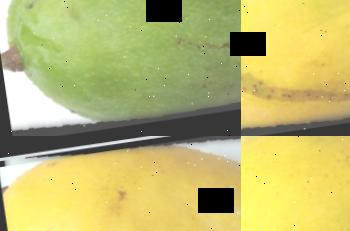PartiallyRipe: (241, 136, 350, 231)
Ripe: (0, 136, 241, 231), (241, 0, 350, 136)
Unripe: (0, 0, 241, 136)
